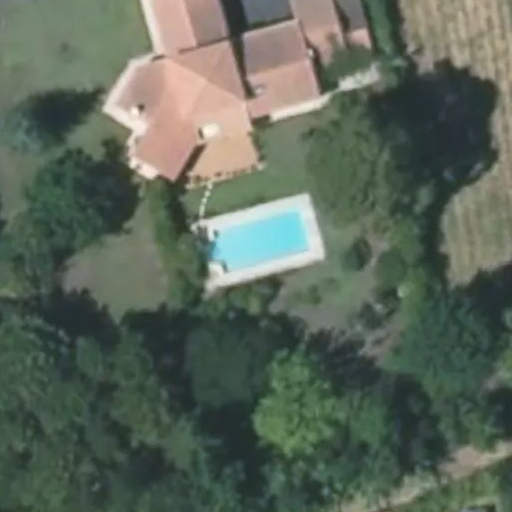pool: (193, 232, 315, 251)
